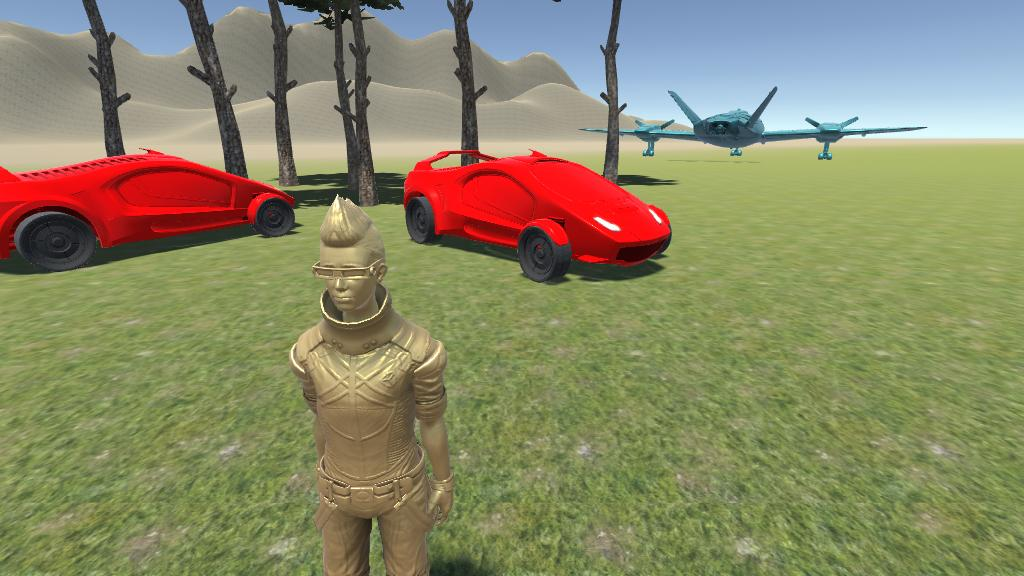car: (0, 149, 294, 272), (404, 150, 671, 283)
ethan: (289, 195, 453, 576)
